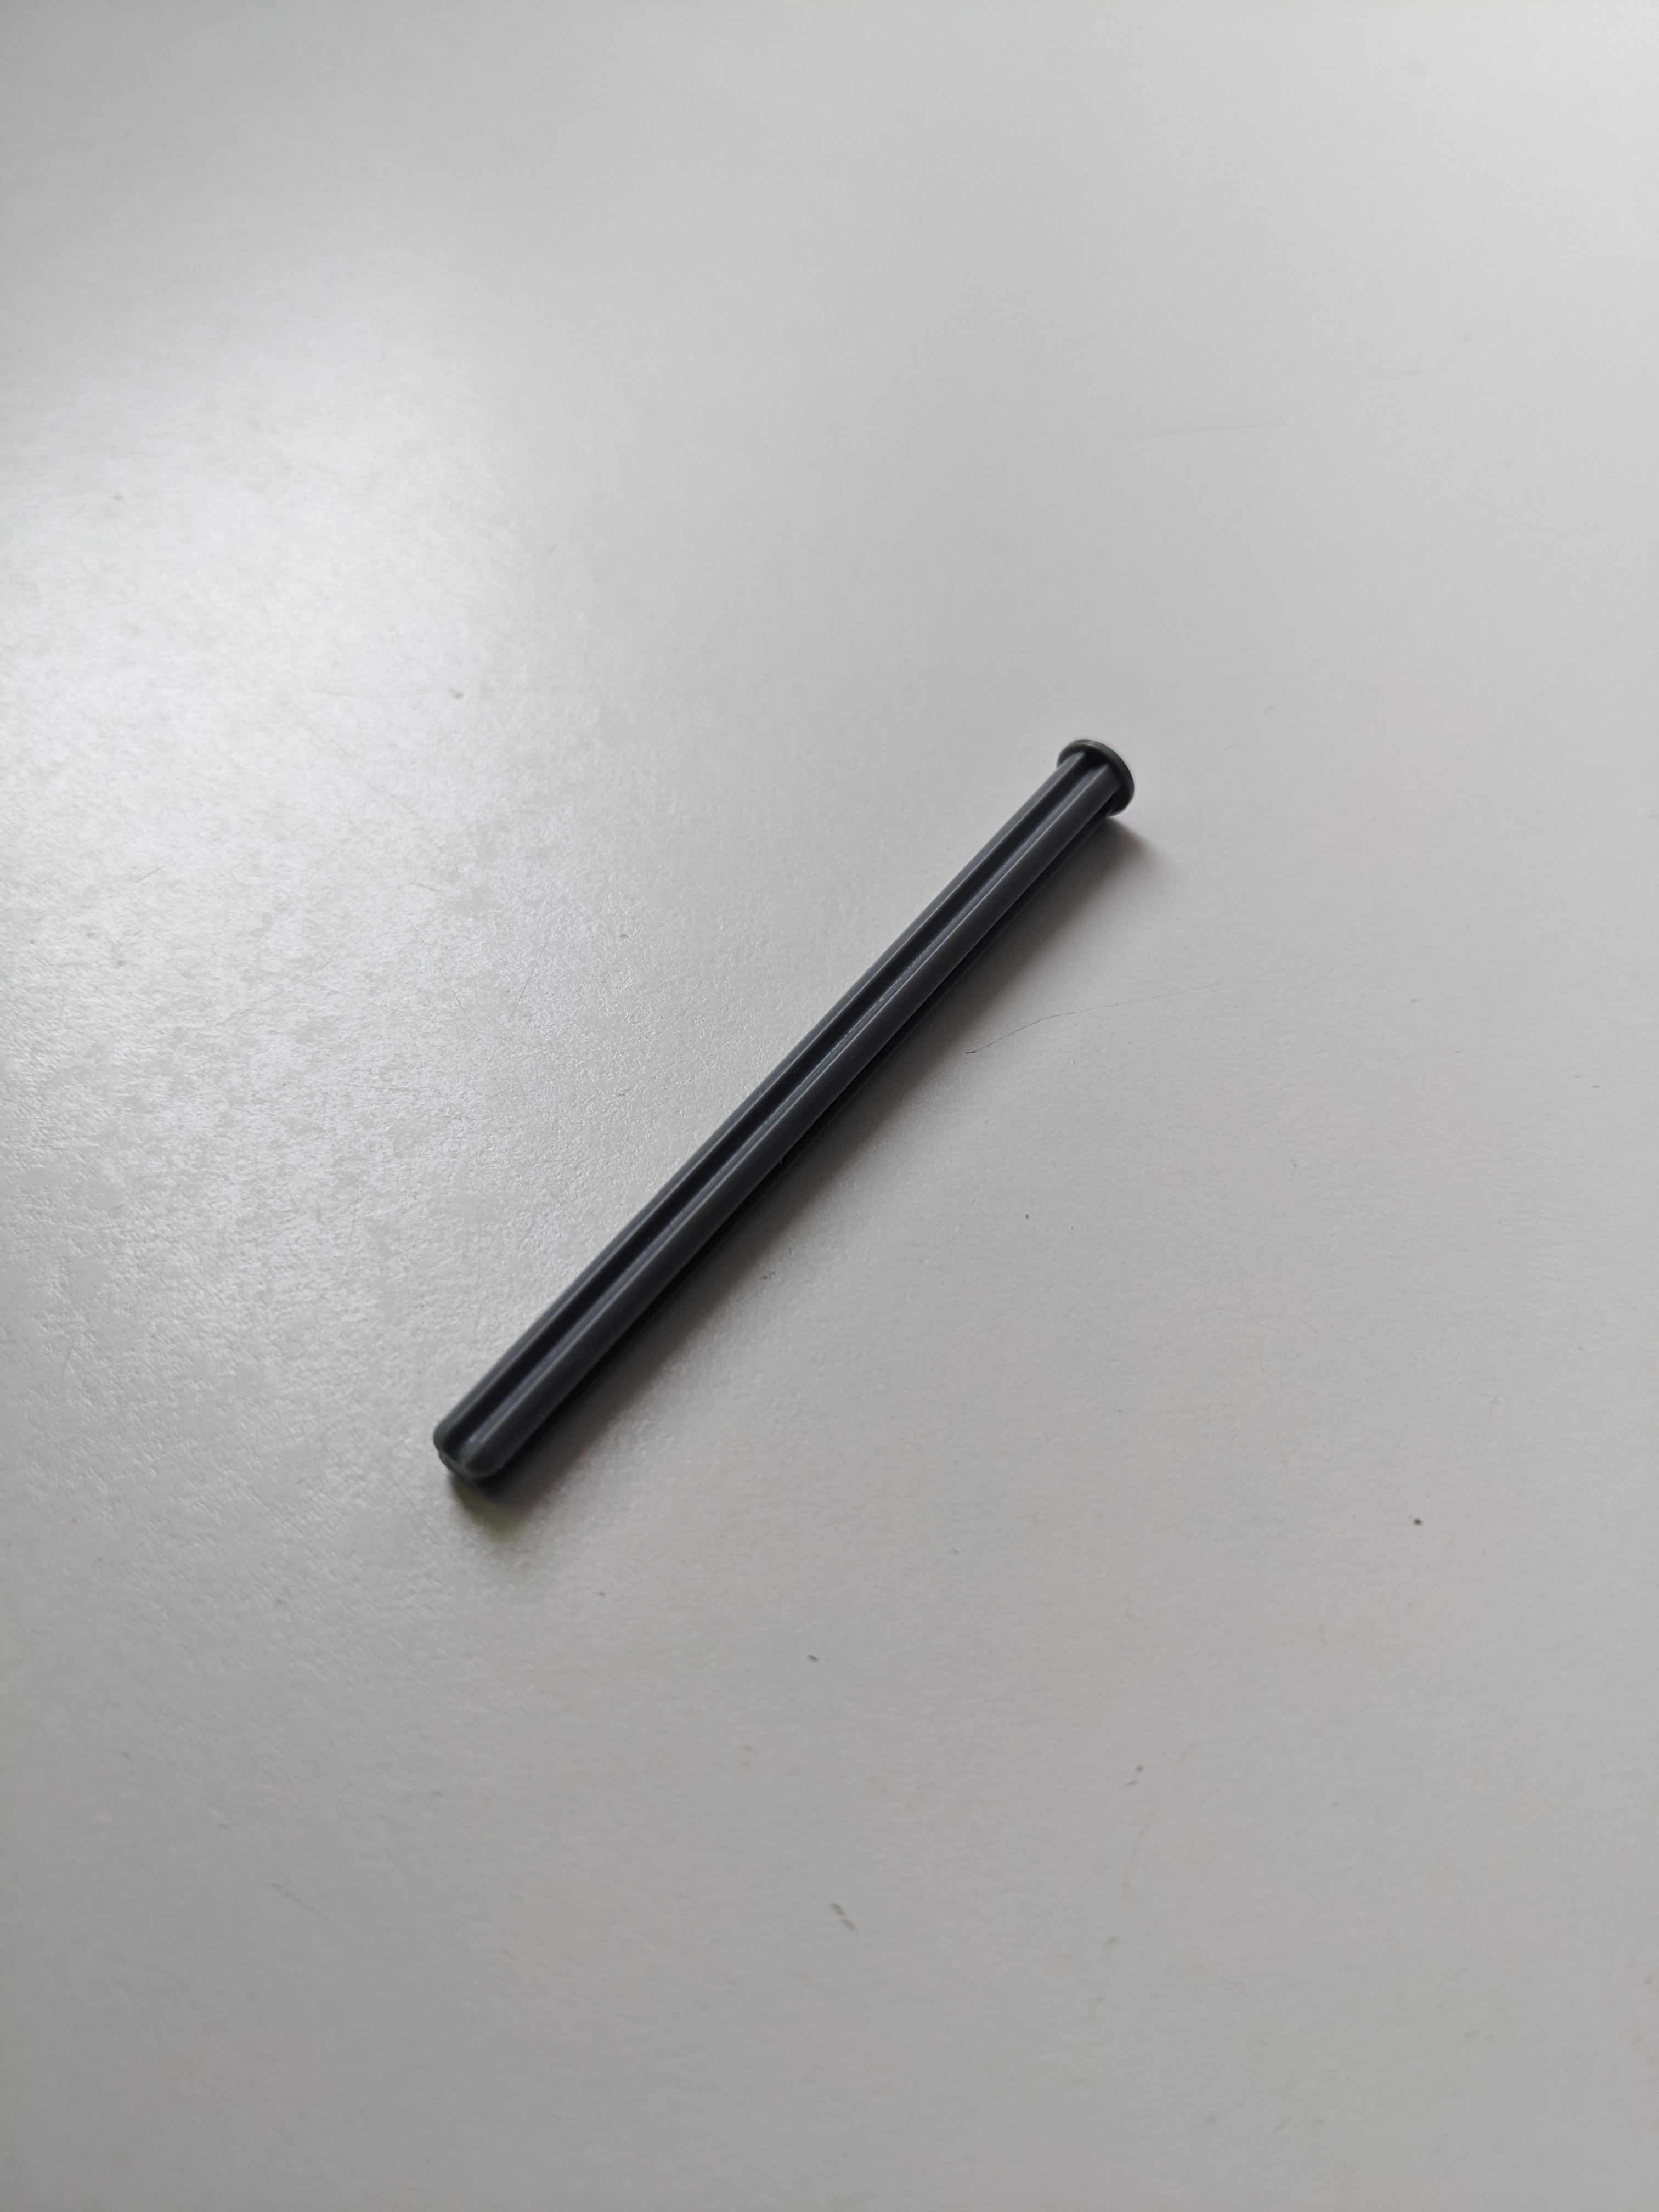Grau_lang: (415, 709, 1155, 1507)
